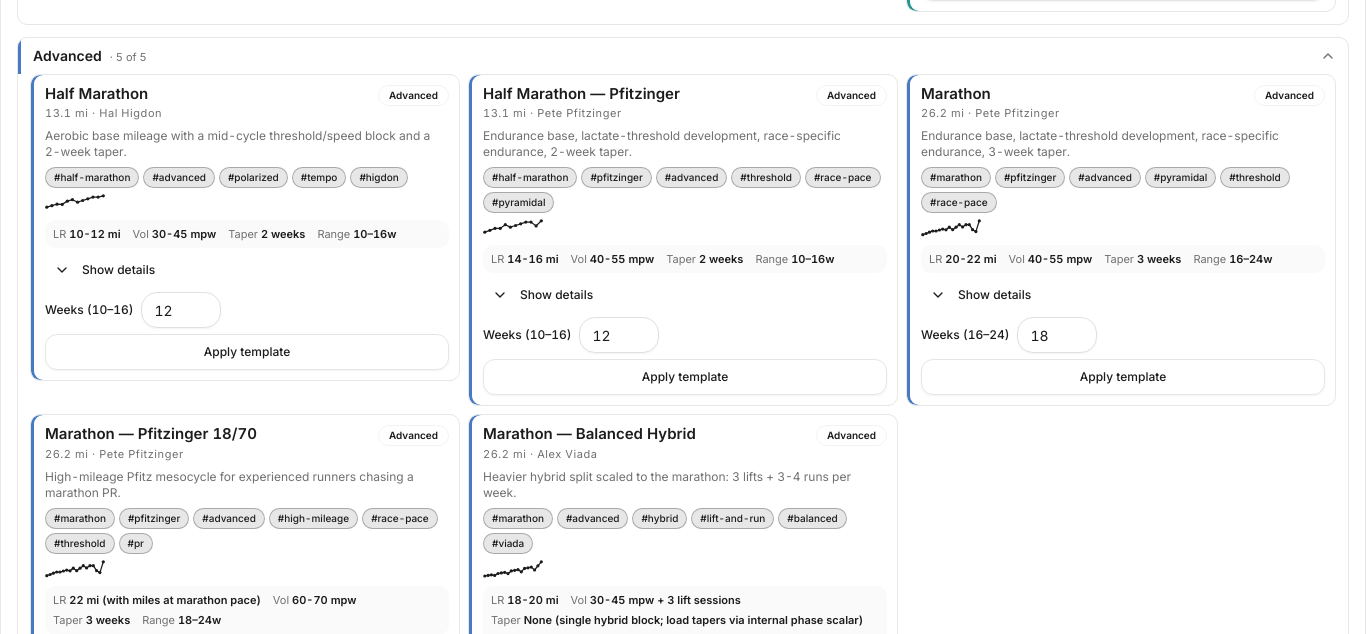
Test case: Planner Apply Template race-date overrun warning › does not show the overrun warning when the staged template fits within the current race date
The image size is (1366, 634).
(page scrolled)
Click the button with test id "planner-template-apply-half_marathon" at coordinates (247, 352), box x1=45 y1=334 x2=449 y2=370
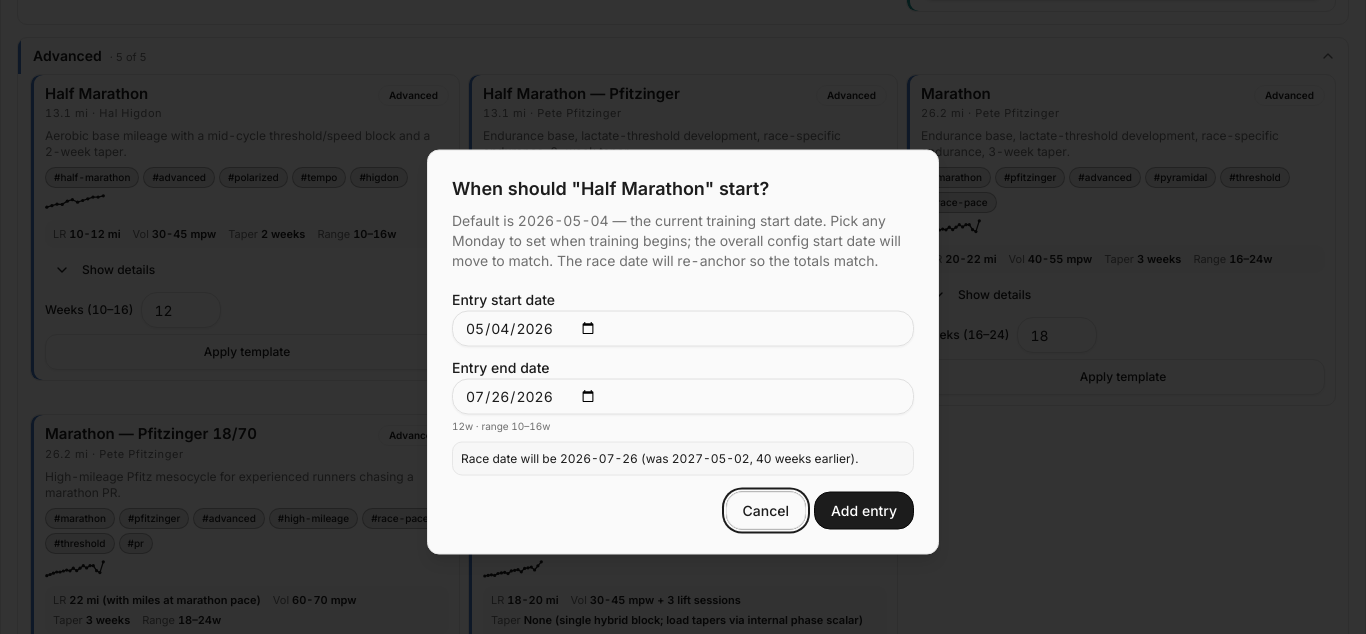
Expected: the element with test id "planner-pending-apply-race-preview" is shown, x1=452 y1=442 x2=914 y2=476
